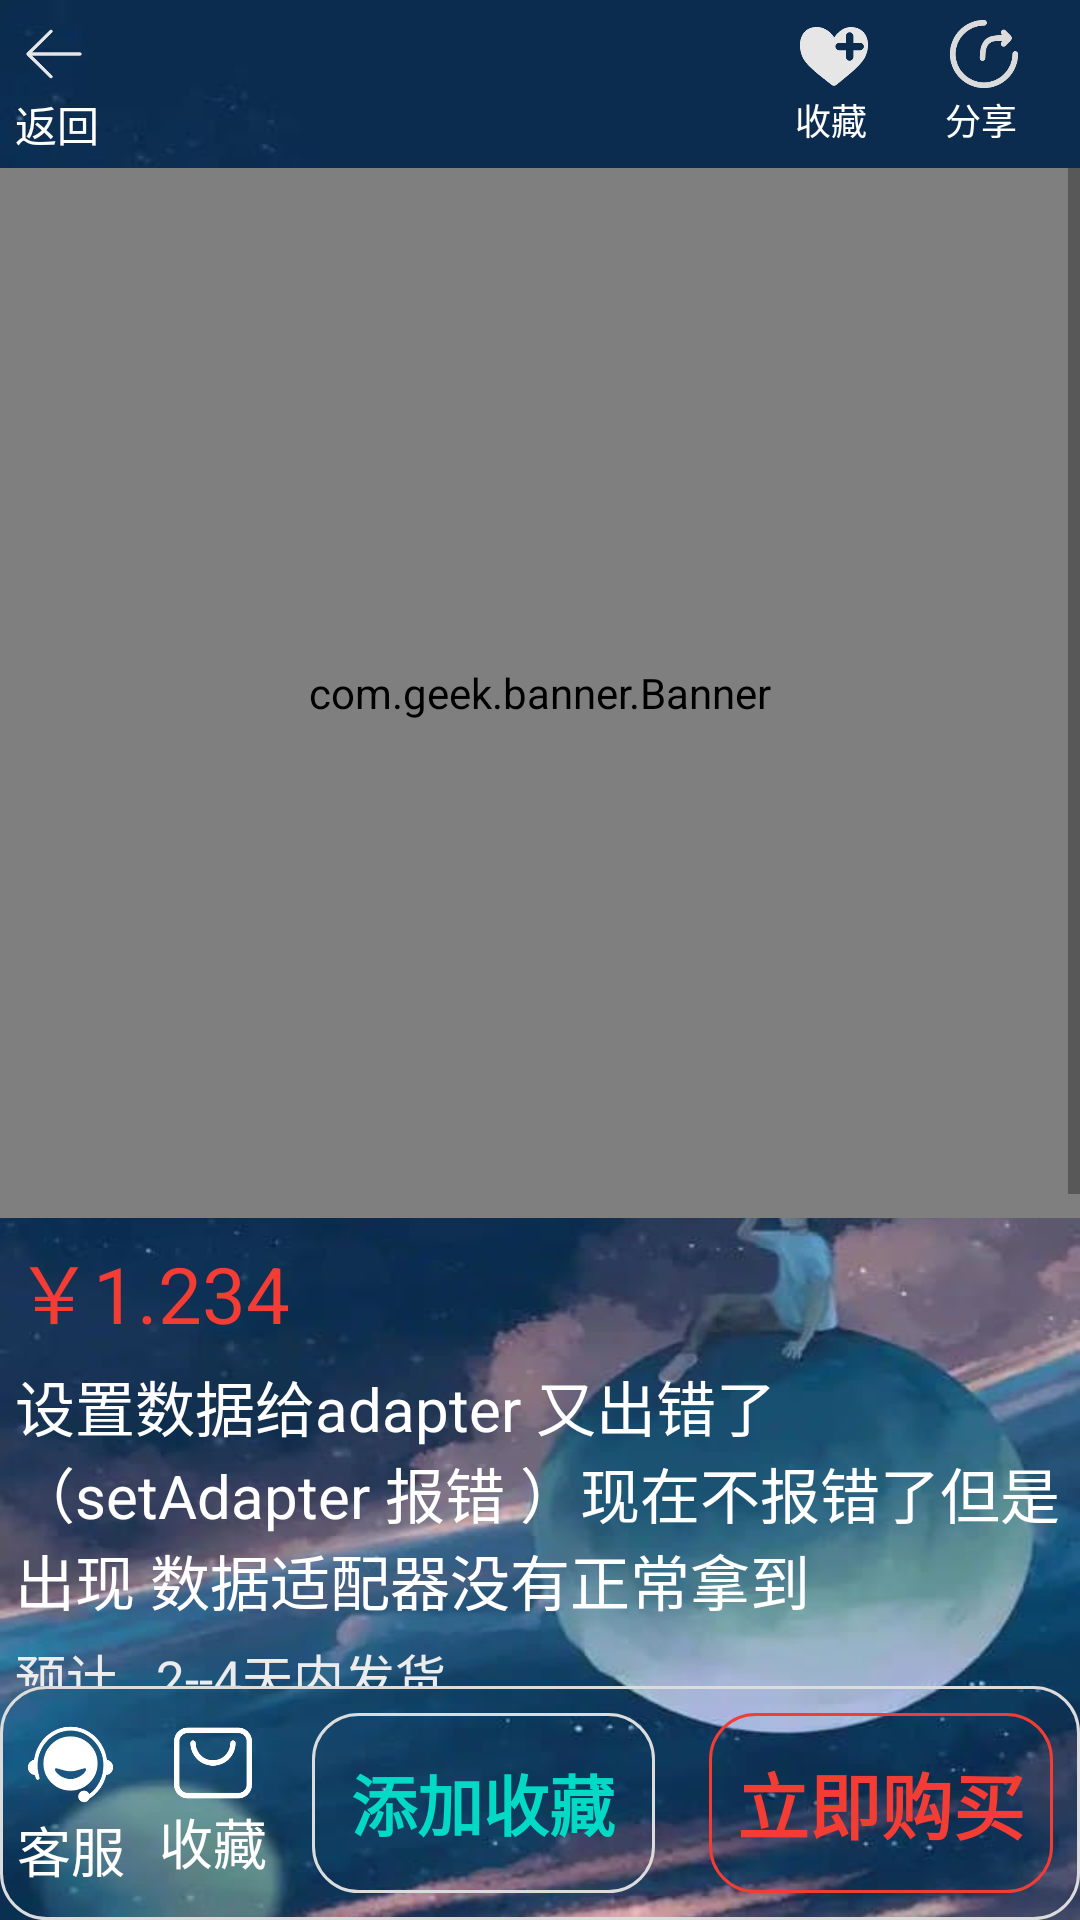

Where to tap for icons on this 1080w x 1920h app screen, as (x=x, y=y):
shoup: (x=213, y=1763)
